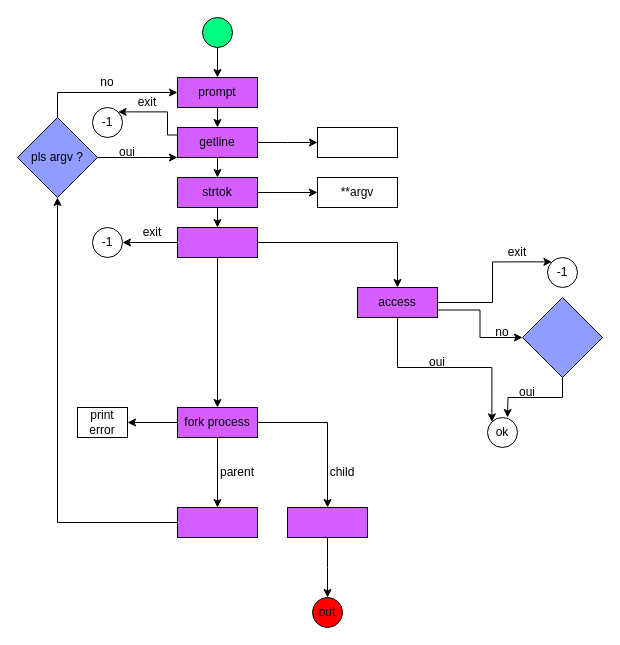
This 620x645 diagram has some shape labels left out. Each missing label, with the centre of its shape:
"cd ? exit ? ;" goes at point (562, 337).
"checkaccess" goes at point (217, 242).
"execve" goes at point (327, 522).
"in" goes at point (217, 32).
"ub char lus char *line" goes at point (357, 142).
"wait" goes at point (217, 522).
